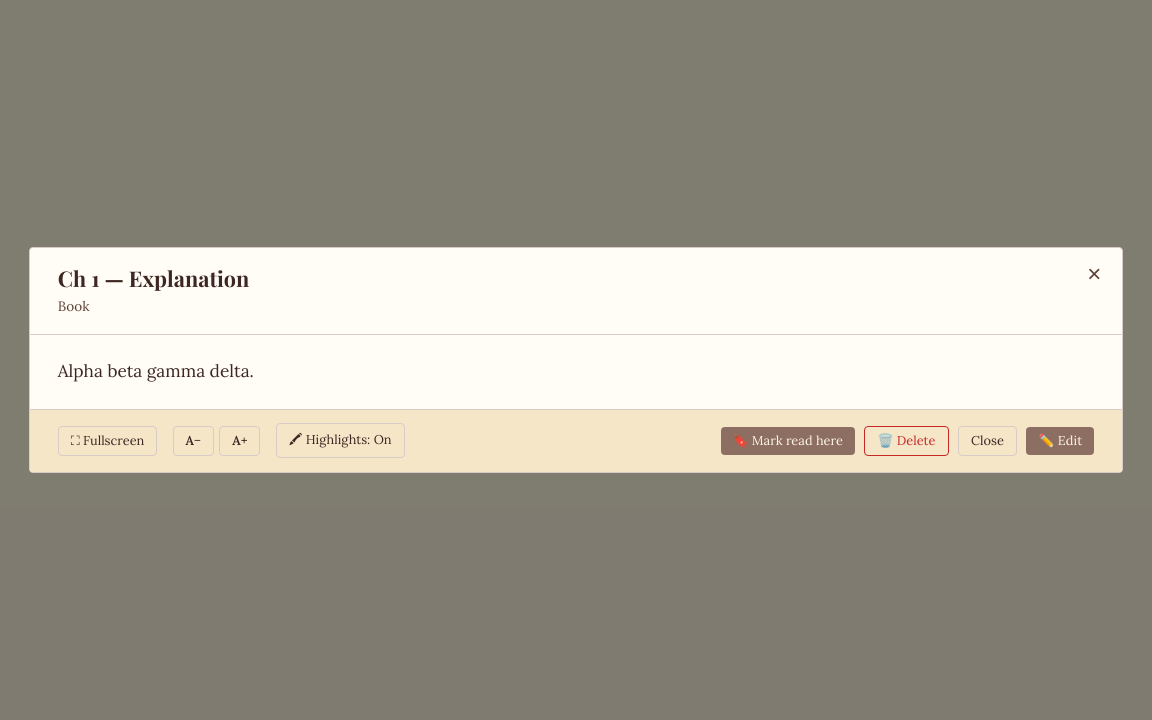
Test: ChapterExplanationModal reading controls › bookmarks the current scroll position
The width and height of the screenshot is (1152, 720).
(page scrolled)
Click the button "🔖 Mark read here" at [788, 441], box [720,427,855,455]
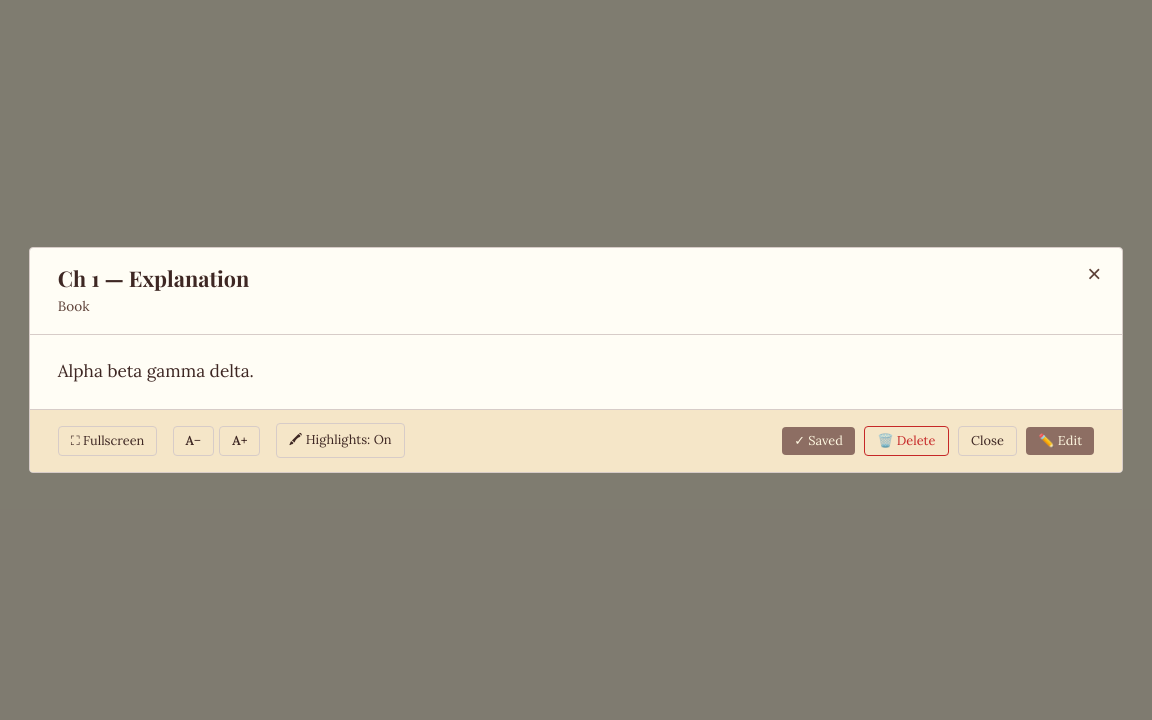
Check: the button "✓ Saved" is shown, box [782,427,855,455]
